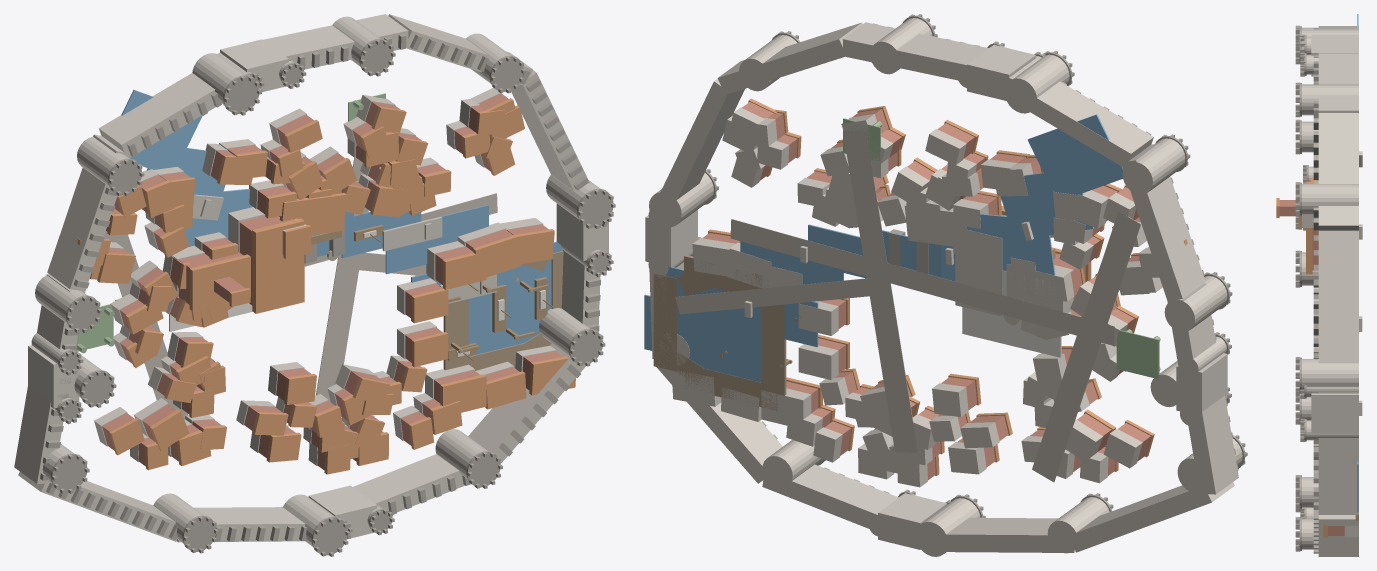
File: Ambrezzo_v2_MapReady.glb
3 views of the same model, side by side, from view 1: azimuth 30°, elevation 25°; view 2: azimuth 150°, elevation 25°; view 3: azimuth 270°, elevation 25° (orthographic). The views are drawn at different scales.
Visible parts, largest first — view 1: Wall_1, Wall_2, Duomo_Block_roof, Harbor_Basin_Main, Wall_0, East_Main_Road, Wall_7, Wall_8, Wall_3, Wall_5, Wall_9, Watercourse_6 (+66 smaller); view 2: Cross_Axis, East_Main_Road, West_Main_Road, Wall_0, Wall_2, Wall_1, Wall_3, Wall_8, Wall_5, Harbor_Basin_Main, Quay_Road, Watercourse_0 (+62 smaller); view 3: Wall_5, Wall_4, Wall_6, Wall_3, EastGate, WallTower_6, WallTower_5, Wall_7, WallTower_4, NorthGate, EastGate_T2, WallTower_7 (+14 smaller).
Boxes of the visible parts, x1,y1,x2,y2 form: Wall_1: (47,134,130,291); Wall_2: (99,73,215,157); Duomo_Block_roof: (252,218,304,313); Harbor_Basin_Main: (468,241,562,356); Wall_0: (14,274,85,483); East_Main_Road: (316,158,368,402); Wall_7: (468,344,585,463); Wall_8: (353,454,464,512); Wall_3: (263,14,408,69); Wall_5: (511,70,589,190); Wall_9: (176,507,305,542); Watercourse_6: (385,205,488,274); Cross_Axis: (730,219,1114,345); East_Main_Road: (843,130,917,452); West_Main_Road: (1032,211,1140,482); Wall_0: (1167,283,1238,494); Wall_2: (986,71,1153,168); Wall_1: (1122,143,1205,300); Wall_3: (842,22,988,86); Wall_8: (762,464,919,548); Wall_5: (650,78,744,226); Harbor_Basin_Main: (666,267,761,382); Quay_Road: (675,277,878,314); Watercourse_0: (1027,114,1123,193); Wall_5: (1318,230,1358,392); Wall_4: (1318,113,1358,230); Wall_6: (1318,438,1358,514); Wall_3: (1318,53,1358,112); EastGate: (1311,393,1358,433); WallTower_6: (1302,359,1358,389); WallTower_5: (1302,184,1358,214); Wall_7: (1318,515,1358,556); WallTower_4: (1302,84,1358,115); NorthGate: (1311,34,1358,76); EastGate_T2: (1306,386,1358,397); WallTower_7: (1302,477,1318,507).
Size of the model in its own units: 244 by 207 by 36.2.
